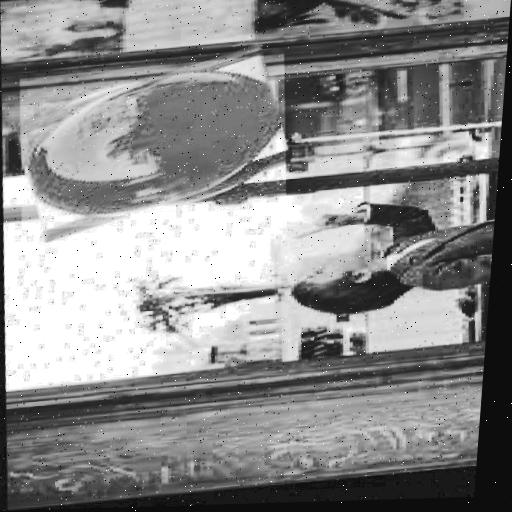balloon: (7, 57, 293, 232)
